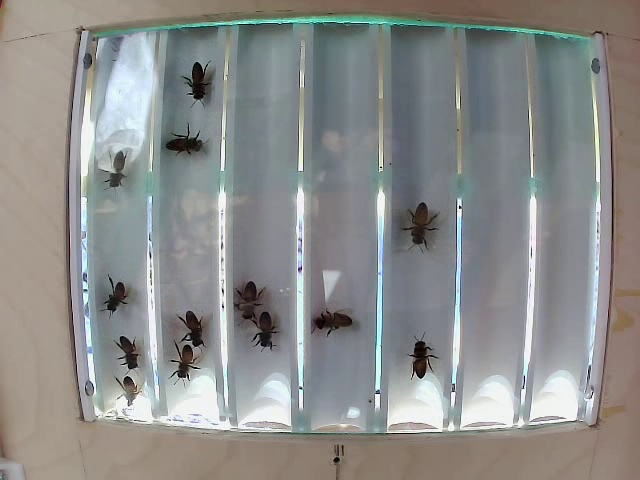bee: (179, 304, 223, 364), (93, 278, 133, 327), (405, 203, 438, 262), (186, 51, 221, 102), (167, 337, 205, 383), (401, 334, 442, 376), (96, 146, 131, 195), (307, 300, 348, 340), (111, 369, 144, 416), (178, 117, 205, 168), (229, 269, 261, 312), (109, 327, 142, 367), (254, 312, 283, 351)
